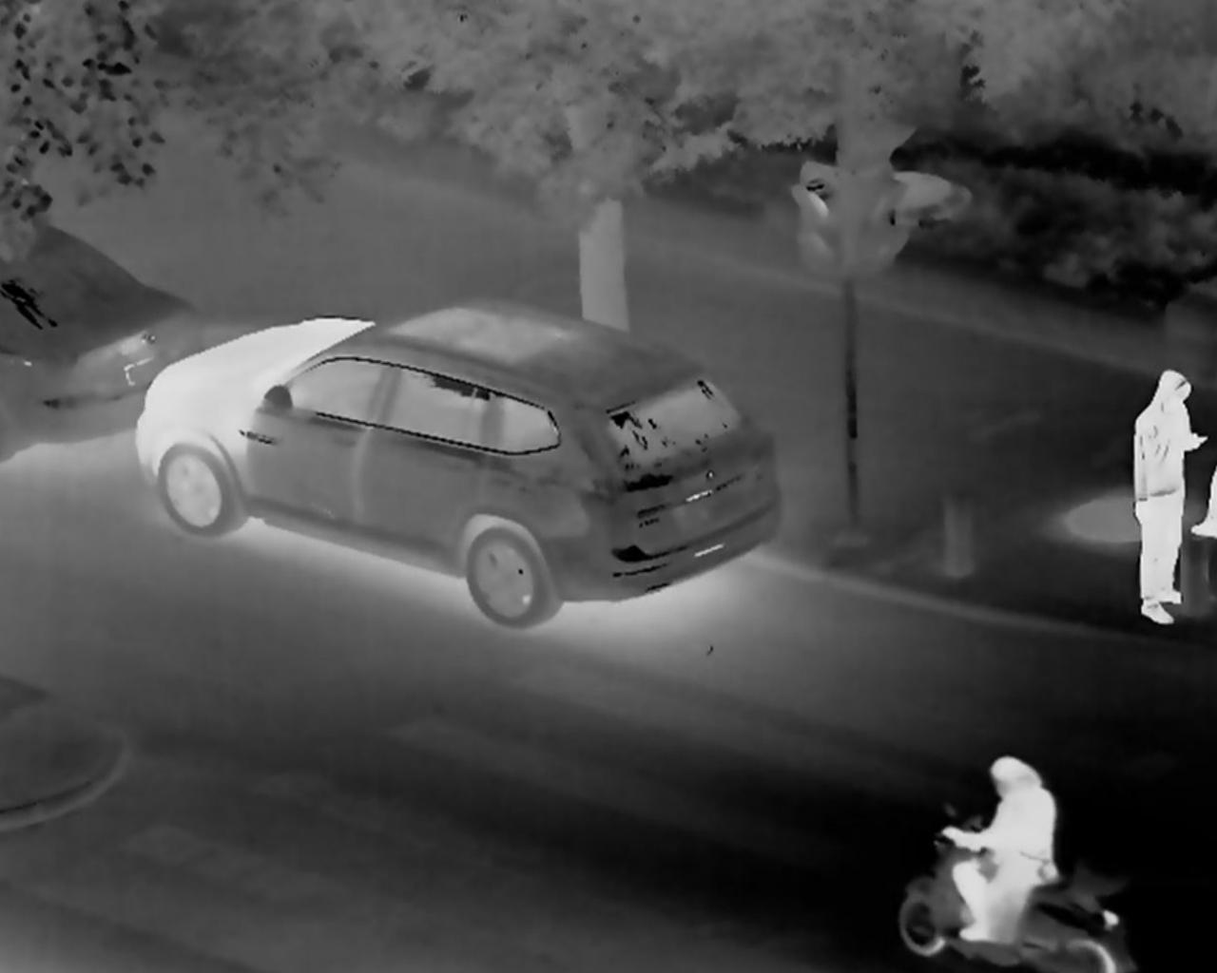person: (935, 750, 1062, 950), (1125, 361, 1205, 631)
